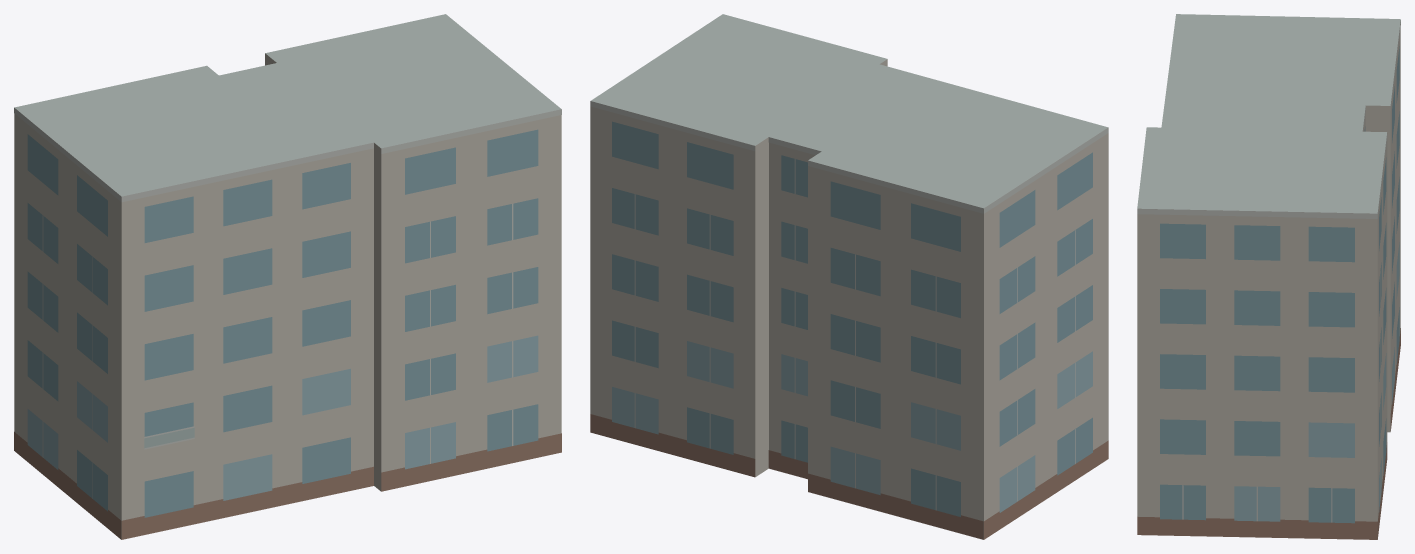
Rendered from survey-upis-32679889.glb.
3 views of the same model, side by side, from view 1: azimuth 30°, elevation 25°; view 2: azimuth 150°, elevation 25°; view 3: azimuth 270°, elevation 25° (orthographic). The views are drawn at different scales.
Visible parts, largest first — view 1: survey-upis-32679889.tmp; view 2: survey-upis-32679889.tmp; view 3: survey-upis-32679889.tmp.
Boxes of the visible parts, box(x1,y1,x2,y2) form: survey-upis-32679889.tmp: box(14, 14, 561, 539); survey-upis-32679889.tmp: box(590, 14, 1108, 539); survey-upis-32679889.tmp: box(1137, 14, 1400, 539).
Bounding box in the file's own units: 19.23 × 14.65 × 10.74.
